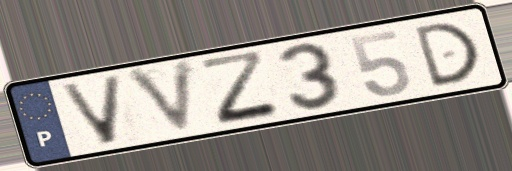3: (276, 41, 346, 112)
5: (345, 27, 414, 98)
D: (410, 19, 484, 91)
V: (122, 56, 200, 140), (55, 73, 127, 148)
Z: (196, 47, 287, 128)
